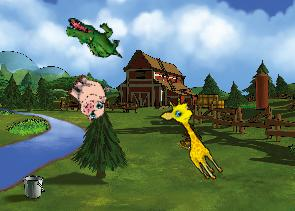crocodile: (62, 16, 126, 60)
giraffe: (156, 93, 233, 184)
pig: (60, 69, 116, 124)
